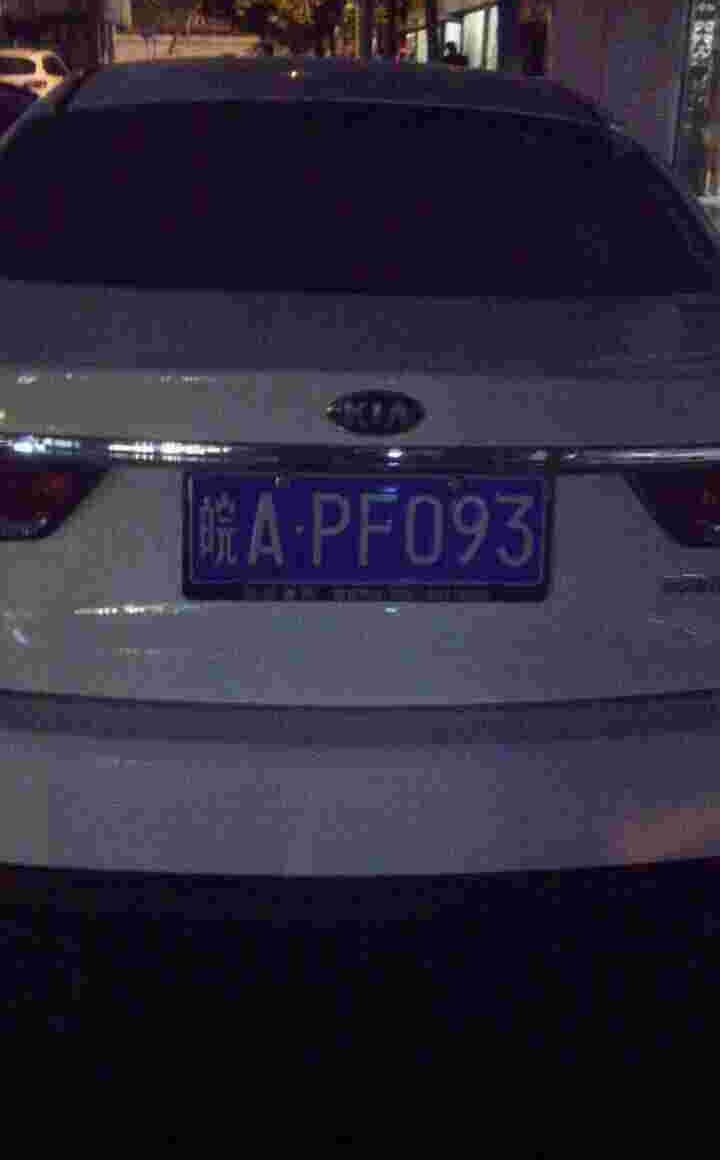license_plate: (179, 473, 557, 584)
